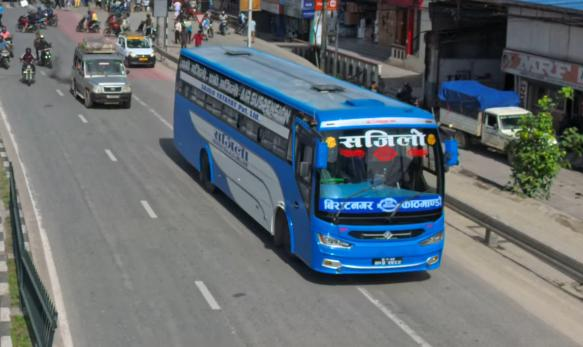SUV: (72, 41, 134, 115)
bus: (171, 35, 455, 284)
taxi: (116, 32, 159, 69)
transport_vehicle: (433, 78, 566, 162)
